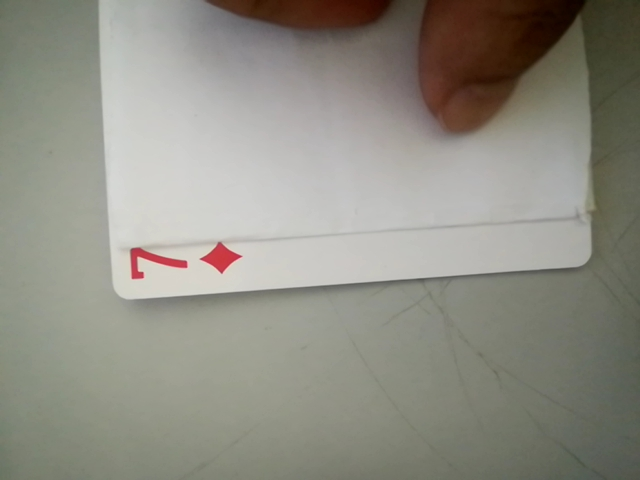fk 7: (113, 243, 196, 290)
